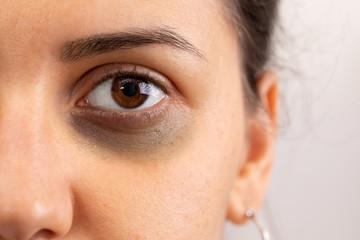Eyebags: (70, 103, 181, 154)
